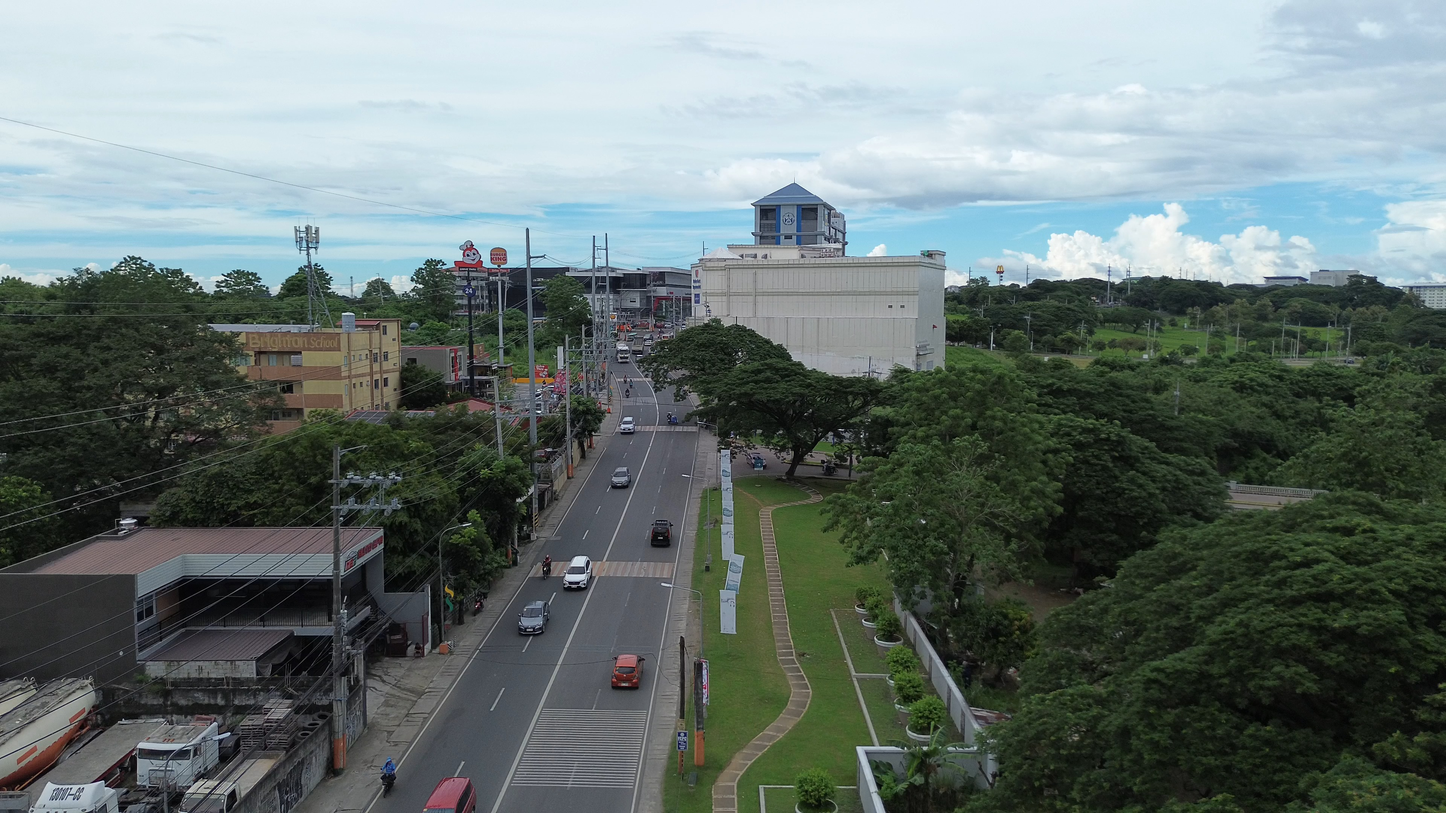car: (611, 654, 645, 688), (563, 555, 593, 589), (519, 601, 549, 634), (611, 467, 631, 487), (618, 416, 636, 433)
vehicle: (0, 678, 98, 787), (137, 716, 218, 790), (30, 782, 119, 813), (180, 780, 238, 813), (423, 777, 476, 813), (650, 519, 673, 546), (749, 452, 766, 470), (617, 349, 631, 362), (642, 338, 653, 348)
